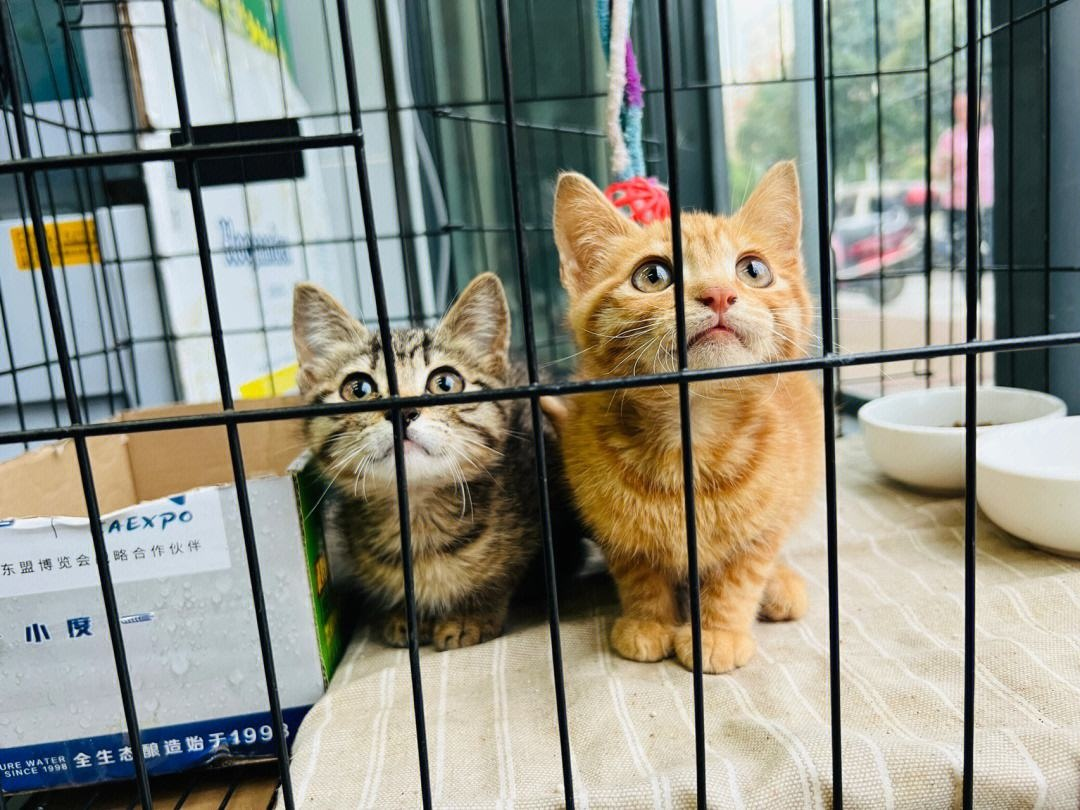cat: (546, 158, 831, 678), (289, 272, 578, 656)
